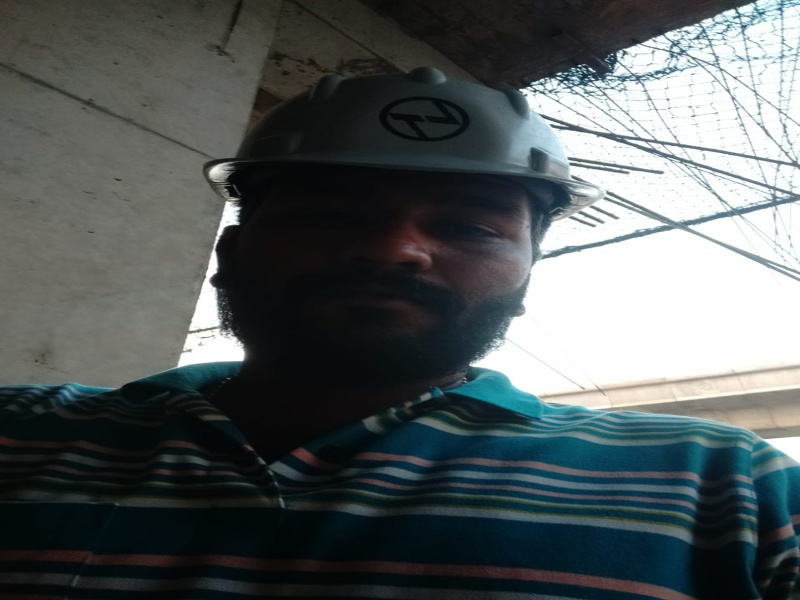Face: (209, 58, 596, 199)
